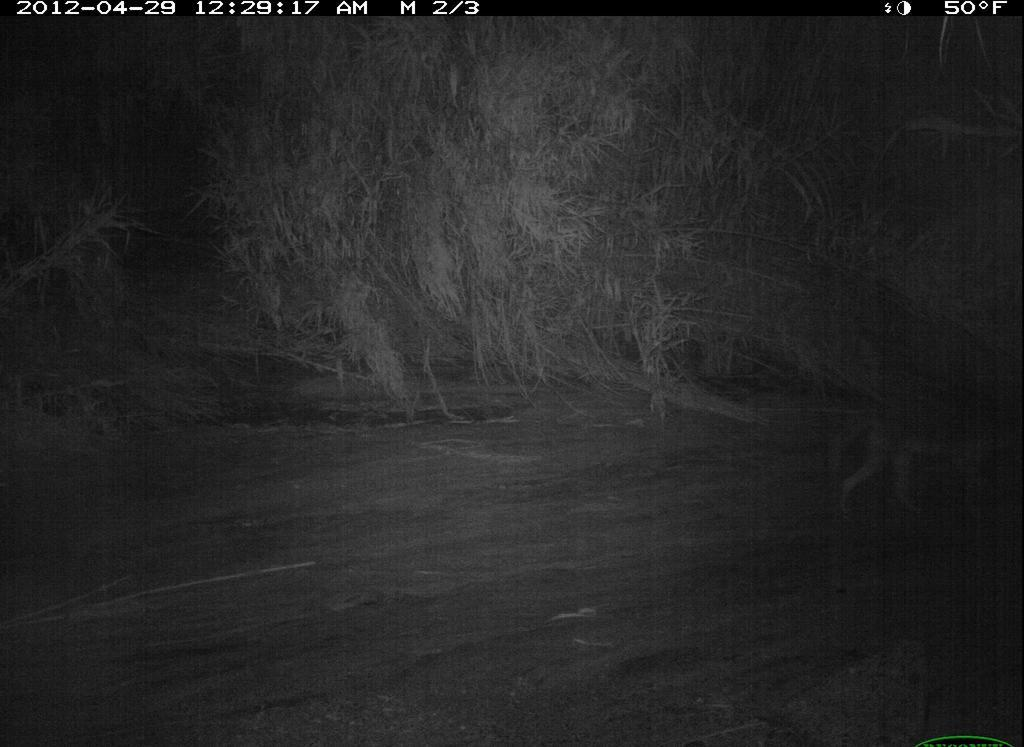coyote: (808, 367, 1018, 552)
